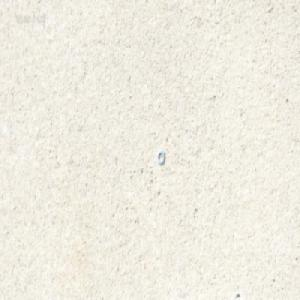Washer: (157, 150, 165, 165)
